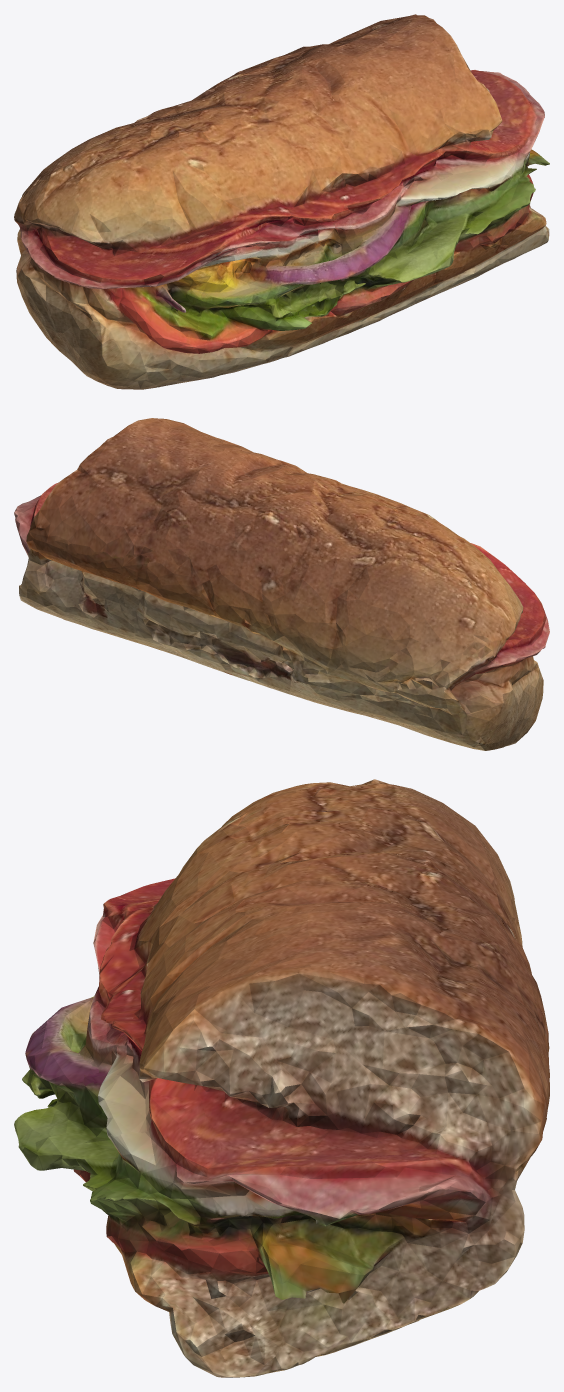
File: sandwitch.gltf
3 views of the same model, one above another, from view 1: azimuth 30°, elevation 25°; view 2: azimuth 150°, elevation 25°; view 3: azimuth 270°, elevation 25° (orthographic). The views are drawn at different scales.
Visible parts, largest first — view 1: sandwitch; view 2: sandwitch; view 3: sandwitch.
Boxes of the visible parts, <box> form: sandwitch: <box>14,14,549,389</box>; sandwitch: <box>14,418,549,750</box>; sandwitch: <box>14,779,549,1377</box>.
Bounding box in the file's own units: 2.63 × 1.26 × 1.44.
1 material, 1 textured.
